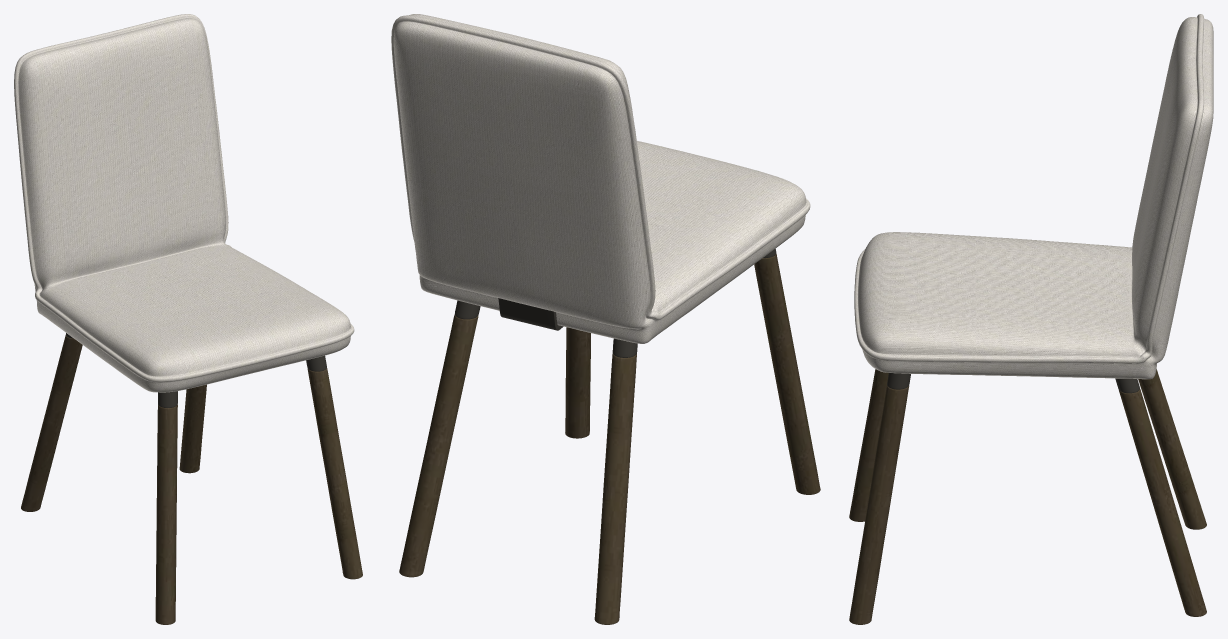
The model's file is 40 - TONSTAD - 餐椅, Fridtuna 淺米色棕色 橡木紋 IKEA 線上購物.glb.
The picture shows the model from 3 angles, left to right: view 1: azimuth 30°, elevation 25°; view 2: azimuth 150°, elevation 25°; view 3: azimuth 270°, elevation 25°; orthographic projection. The views are drawn at different scales.
Parts seen in each view (by area): view 1: 49599653_chair_001, 49599653_chair_003, 49599653_chair_004; view 2: 49599653_chair_001, 49599653_chair_003, 49599653_chair_004; view 3: 49599653_chair_001, 49599653_chair_003, 49599653_chair_004.
Boxes of the visible parts, left/top/right/bottom form: 49599653_chair_001: left=14, top=14, right=354, bottom=392; 49599653_chair_003: left=21, top=335, right=362, bottom=624; 49599653_chair_004: left=66, top=333, right=326, bottom=408; 49599653_chair_001: left=391, top=14, right=810, bottom=343; 49599653_chair_003: left=399, top=253, right=820, bottom=624; 49599653_chair_004: left=455, top=249, right=776, bottom=357; 49599653_chair_001: left=854, top=14, right=1213, bottom=379; 49599653_chair_003: left=849, top=369, right=1206, bottom=624; 49599653_chair_004: left=887, top=373, right=1139, bottom=393.
Bounding box in the file's own units: 0.4199 × 0.8639 × 0.5576.
Materials: 4 (2 with a texture image).
